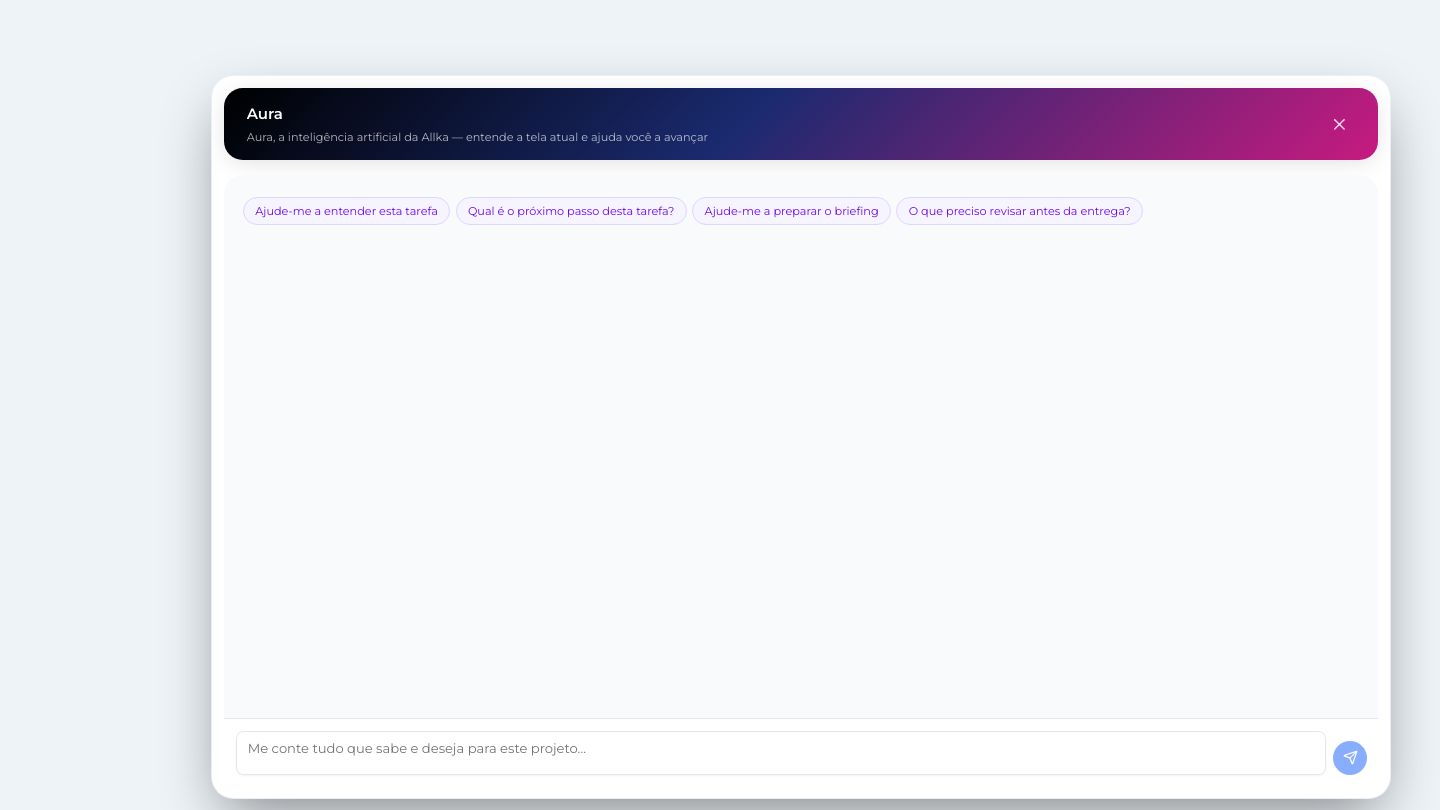
Test: IallkaAssistantPanel — envia só o project_id do contexto da tela › mostra recomendação do Catalog2 como orientação, sem oferecer criação automática de projeto
Type "Preciso de um site" into the text box with placeholder "Me conte tudo que sabe e deseja para este projeto..." at (781, 752), box left=236, top=730, right=1326, bottom=774
Then press Enter
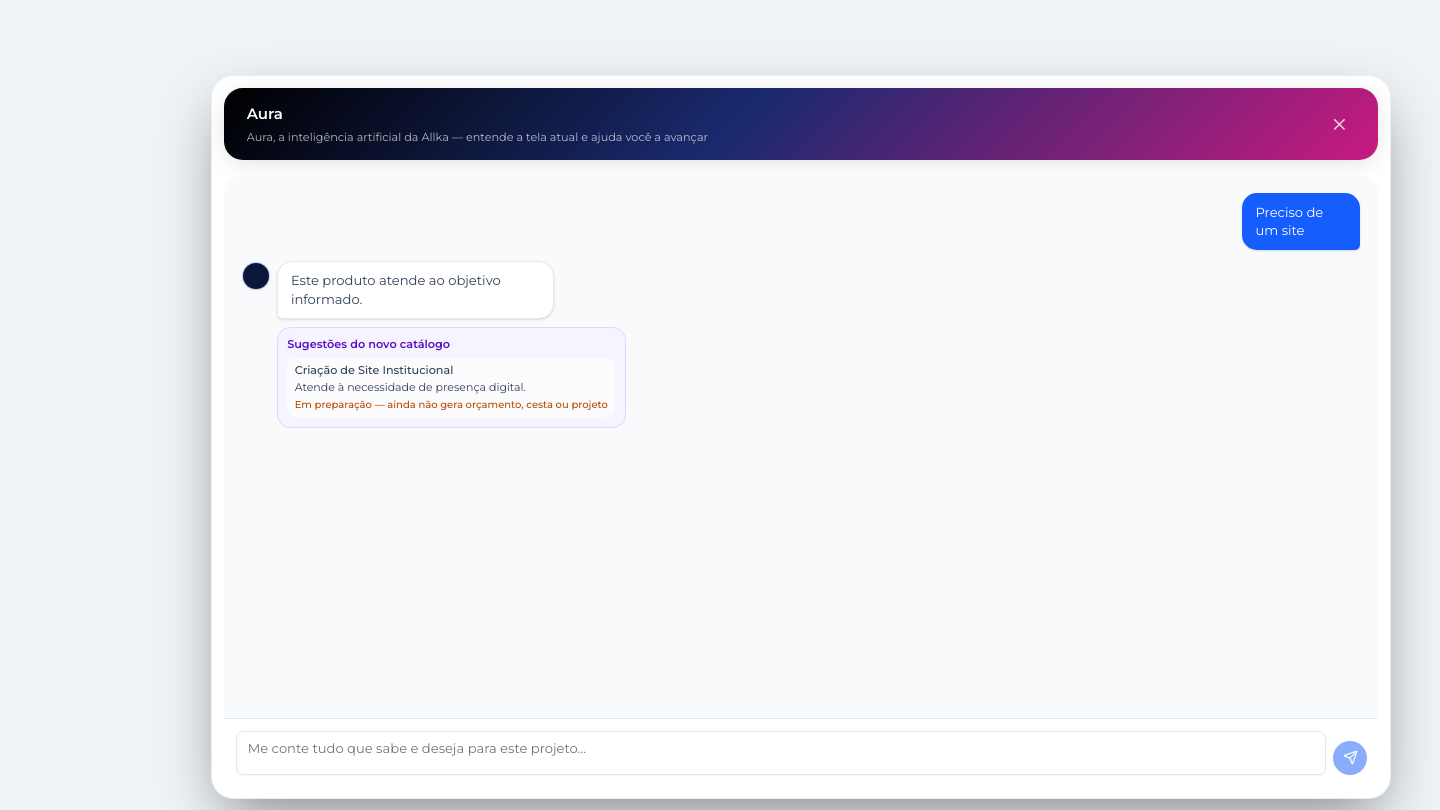
Result: the text "Sugestões do novo catálogo" is shown at left=287, top=337, right=450, bottom=351
Result: the text "Criação de Site Institucional" is shown at left=295, top=363, right=453, bottom=377
Result: the text "Em preparação — ainda não gera orçamento, cesta ou projeto" is shown at left=295, top=398, right=608, bottom=412
